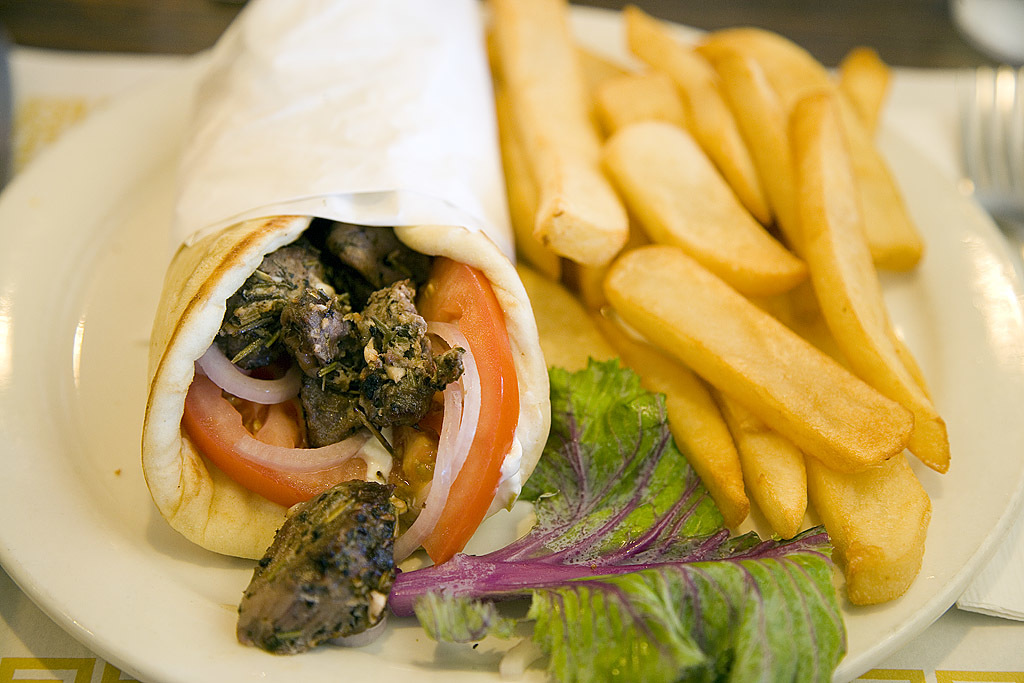French fries: (510, 10, 977, 608)
